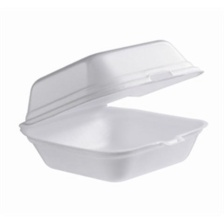foam_box: (14, 32, 215, 187)
